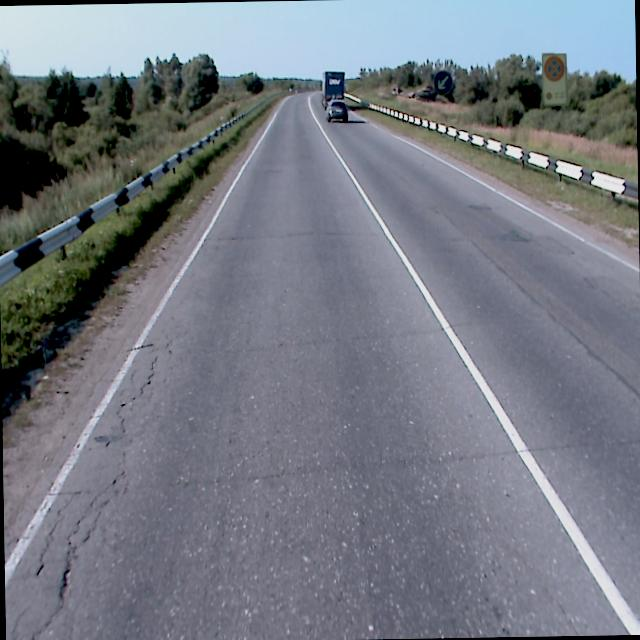road: (4, 90, 640, 640)
